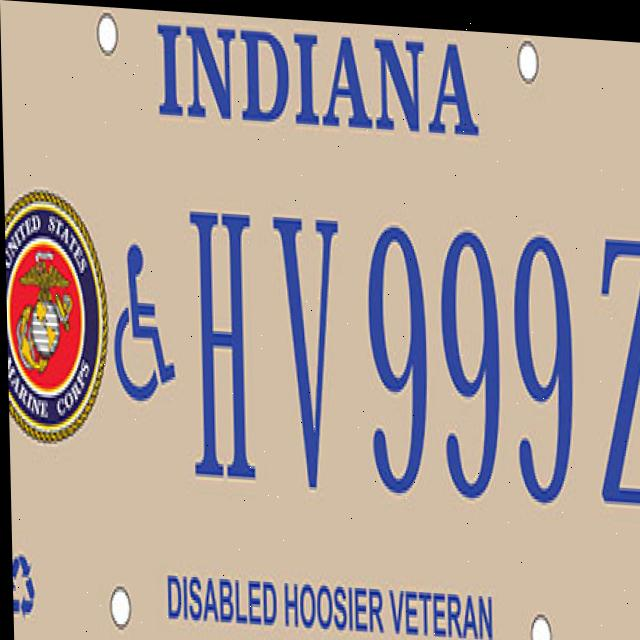symbol_of_access: (107, 222, 178, 413)
